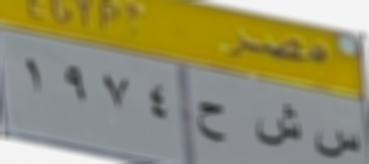1: (23, 55, 48, 104)
4: (142, 78, 174, 130)
7: (98, 67, 131, 118)
7aa: (194, 91, 230, 146)
9: (60, 59, 93, 108)
seen: (310, 121, 360, 164)
sheen: (246, 98, 304, 159)
